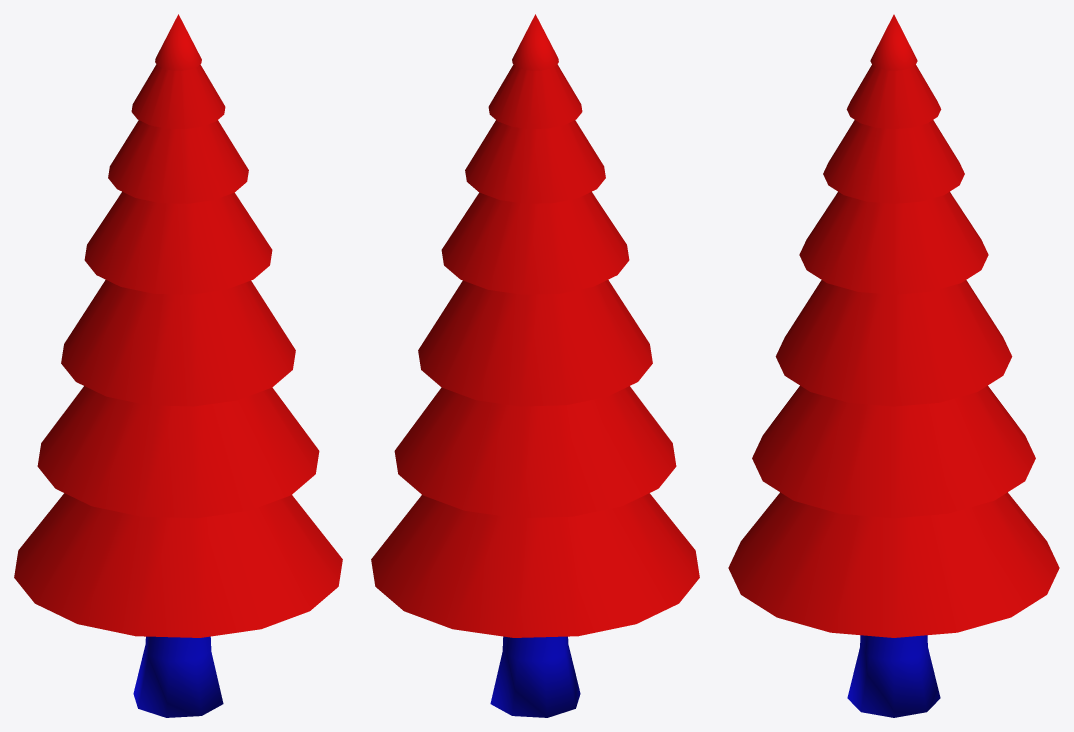
Rendered from tree_pine.obj.
3 views of the same model, side by side, from view 1: azimuth 30°, elevation 25°; view 2: azimuth 150°, elevation 25°; view 3: azimuth 270°, elevation 25° (orthographic).
Parts seen in each view (by area): view 1: Circle, Cube; view 2: Circle, Cube; view 3: Circle, Cube.
Boxes of the visible parts, <box> form: Circle: <box>14,14,342,637</box>; Cube: <box>133,636,223,717</box>; Circle: <box>371,14,699,637</box>; Cube: <box>490,636,580,717</box>; Circle: <box>728,14,1059,637</box>; Cube: <box>847,635,940,717</box>.
Bounding box in the file's own units: 10.97 × 24.99 × 10.97.
